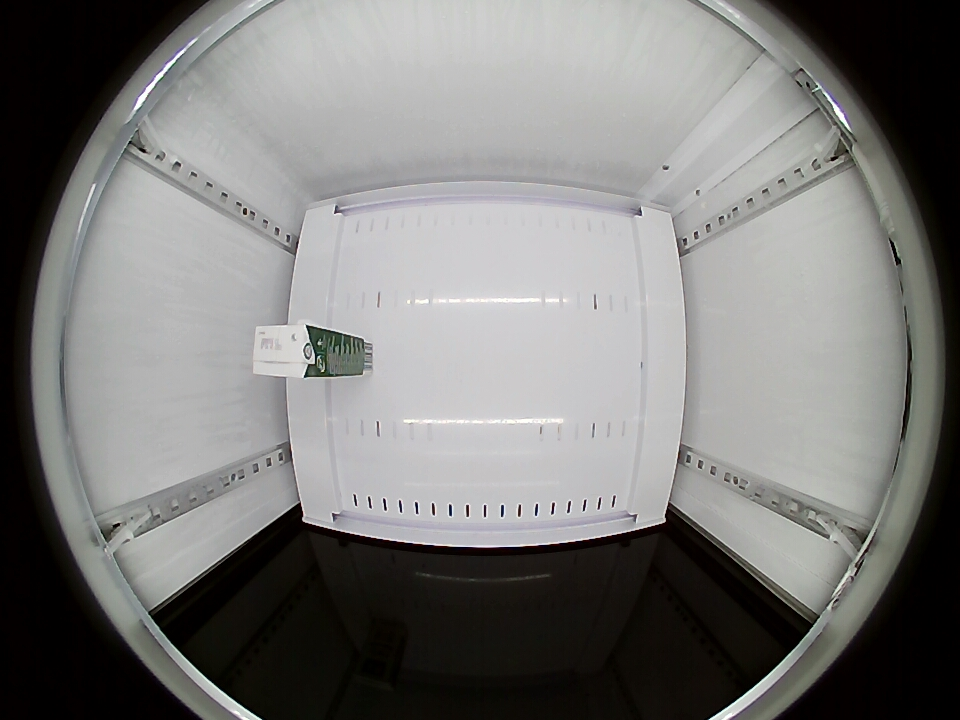jindian: (251, 323, 331, 380)
